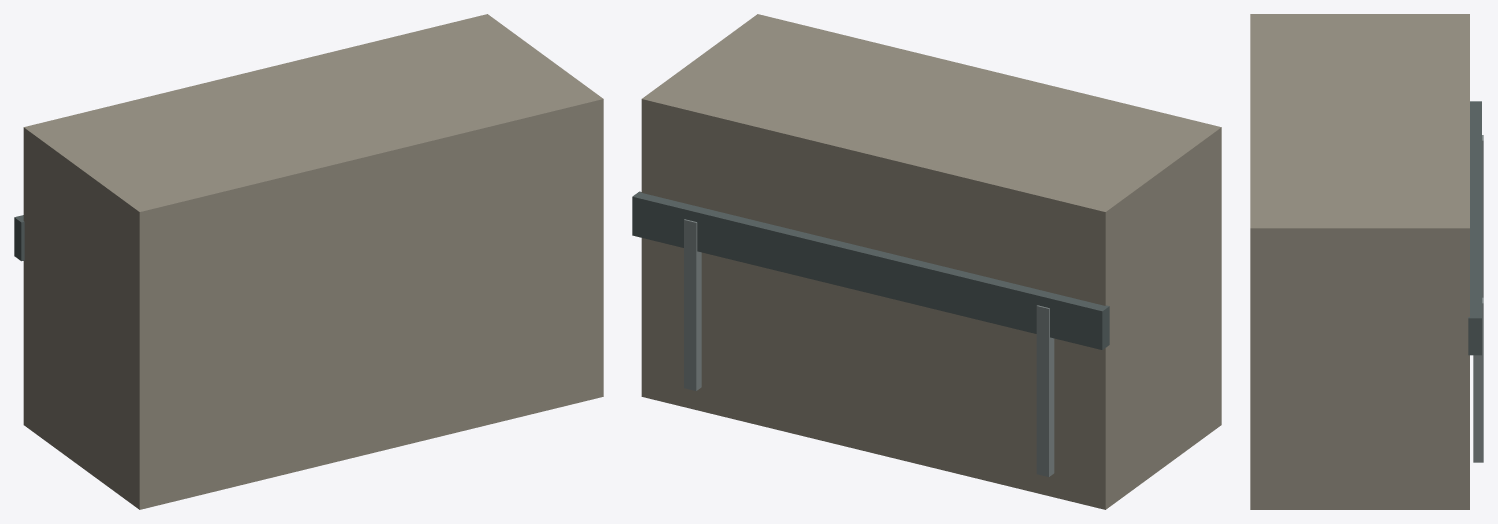
The model's file is kitchen_counter.glb.
The picture shows the model from 3 angles, left to right: view 1: azimuth 30°, elevation 25°; view 2: azimuth 150°, elevation 25°; view 3: azimuth 270°, elevation 25°; orthographic projection. The views are drawn at different scales.
Visible parts, largest first — view 1: kitchen_counter; view 2: kitchen_counter; view 3: kitchen_counter.
Part boxes in pixels (x1,y1,x2,y2): kitchen_counter: [14, 14, 603, 509]; kitchen_counter: [632, 14, 1221, 509]; kitchen_counter: [1250, 14, 1483, 509].
Size of the model in its own units: 1.52 by 0.92 by 0.69.
